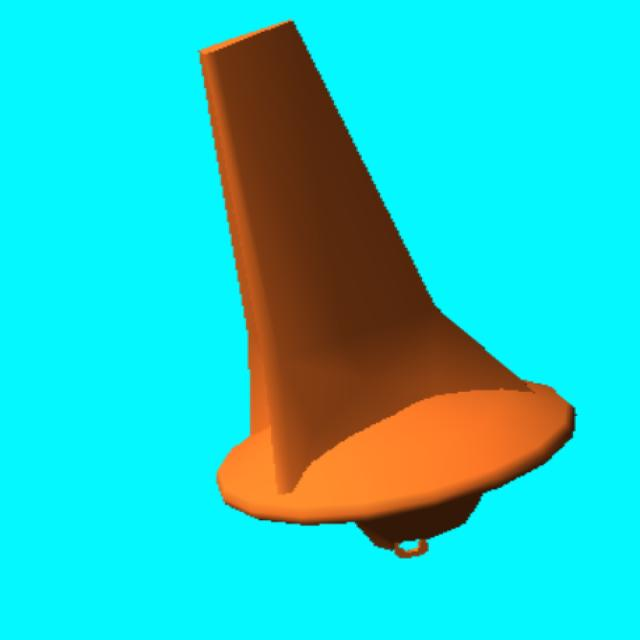OrangeBuoy: (200, 22, 573, 548)
